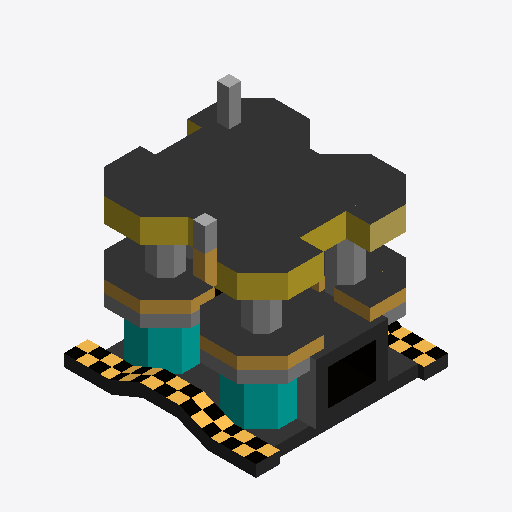
Isometric view (azimuth 45°, elevation 35.3°) of a Minecraft model made of 114 cuboids, textured from the same repository.
Parts seen in each view (by area): element 103, element 49, element 2, element 48, element 83, element 35, element 38, element 30, element 45, element 96, element 100, element 31 (+28 smaller).
Part boxes in pixels (left/top/right/bottom): element 103: left=118, top=109, right=380, bottom=258; element 49: left=186, top=257, right=387, bottom=373; element 2: left=106, top=339, right=417, bottom=456; element 48: left=297, top=360, right=387, bottom=428; element 83: left=346, top=199, right=405, bottom=251; element 35: left=200, top=314, right=271, bottom=383; element 38: left=334, top=273, right=405, bottom=324; element 30: left=104, top=259, right=175, bottom=327; element 45: left=208, top=424, right=279, bottom=477; element 96: left=237, top=245, right=287, bottom=299; element 100: left=104, top=182, right=163, bottom=243; element 31: left=140, top=286, right=190, bottom=327.
Bounding box in the file's own units: 16 × 16 × 16.